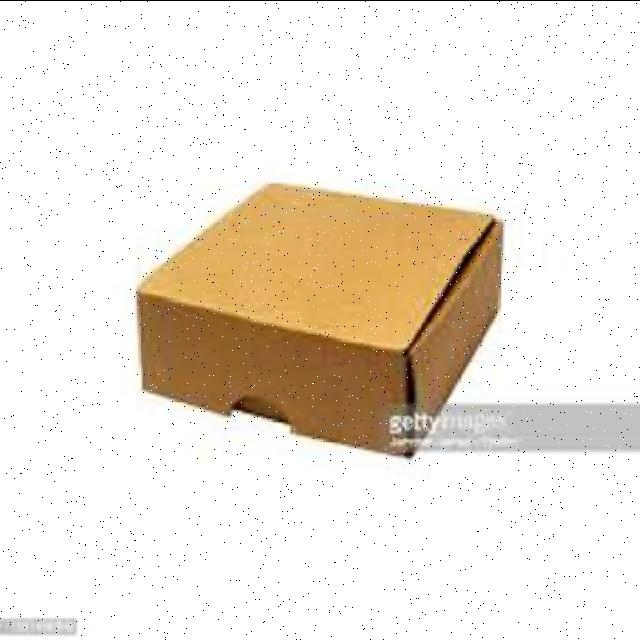normal: (138, 175, 514, 457)
